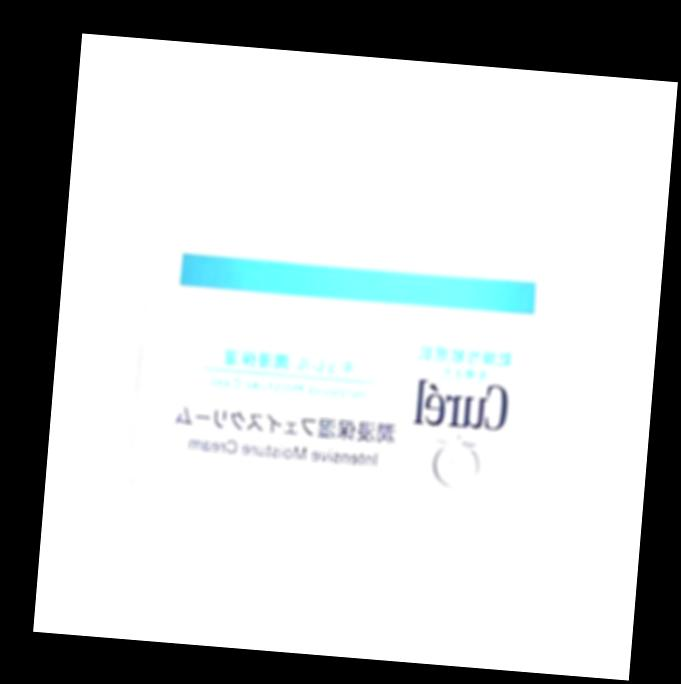cosmetic: (124, 167, 587, 520)
